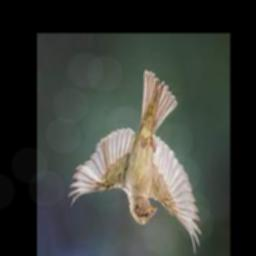Sparrow: (68, 71, 202, 254)
